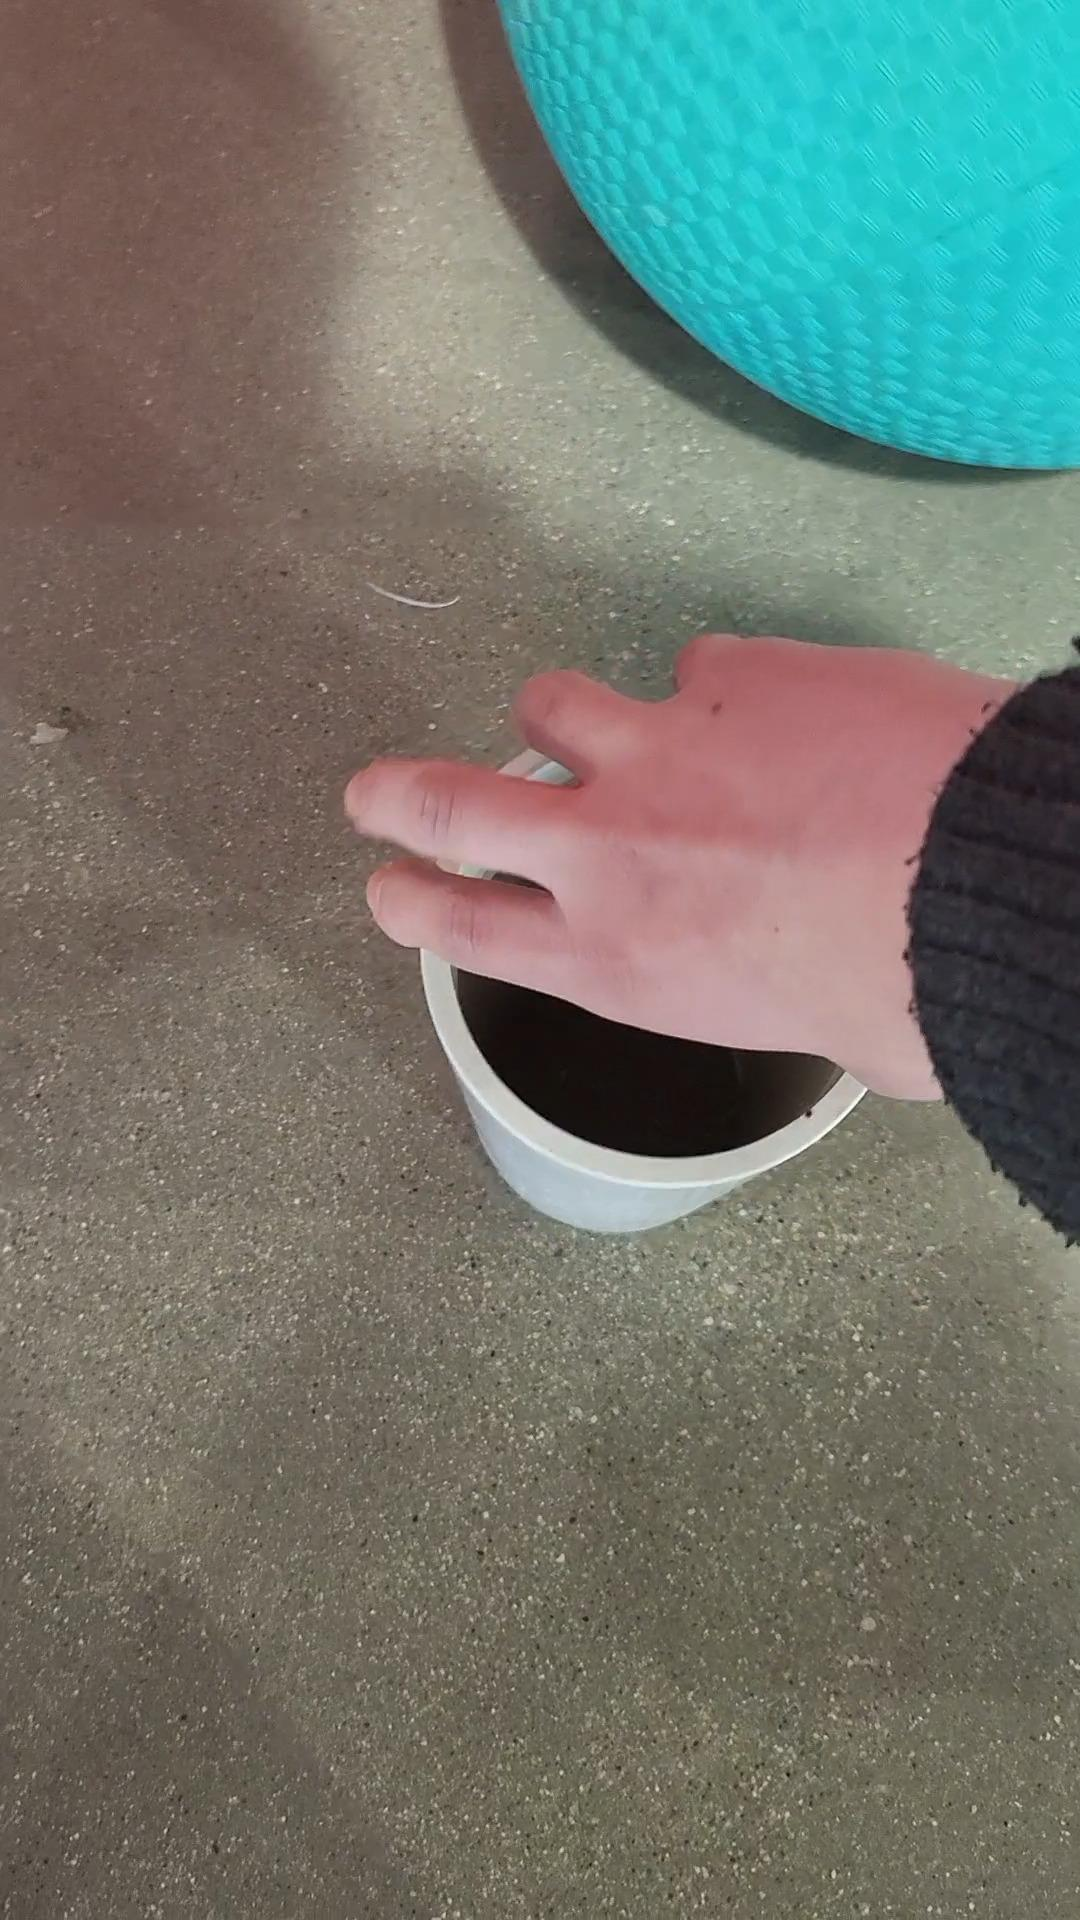algae: (487, 0, 1080, 480)
